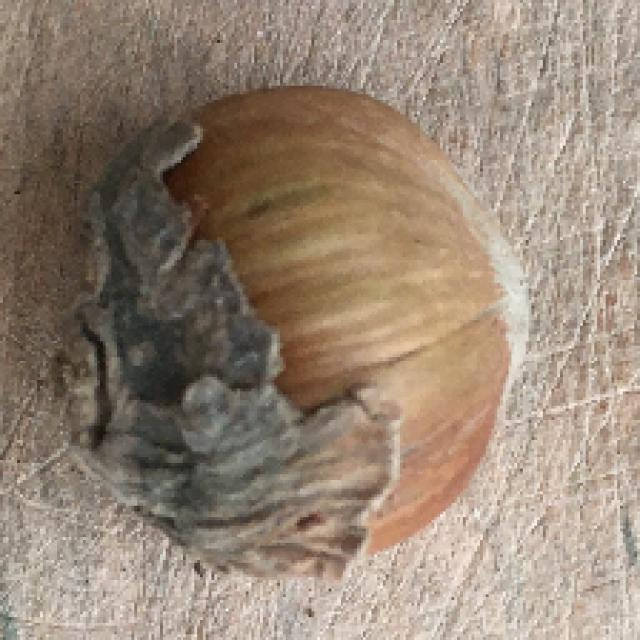DamagedHazelnut: (50, 83, 531, 576)
